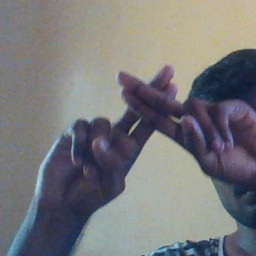F: (69, 53, 224, 168)
